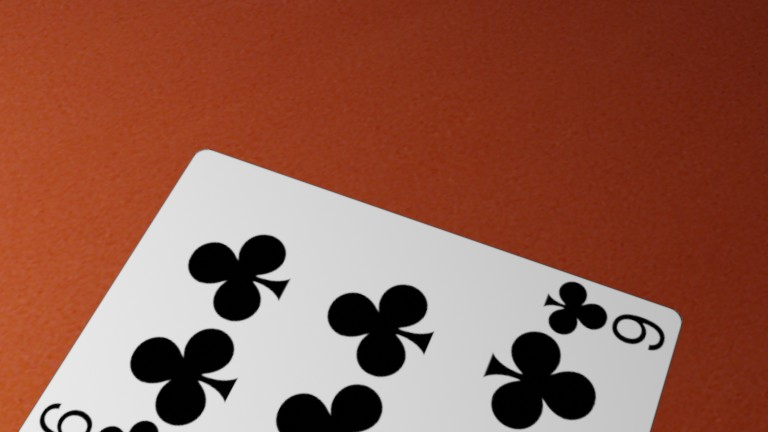6_of_clubs: (533, 272, 675, 372), (22, 382, 177, 432)
